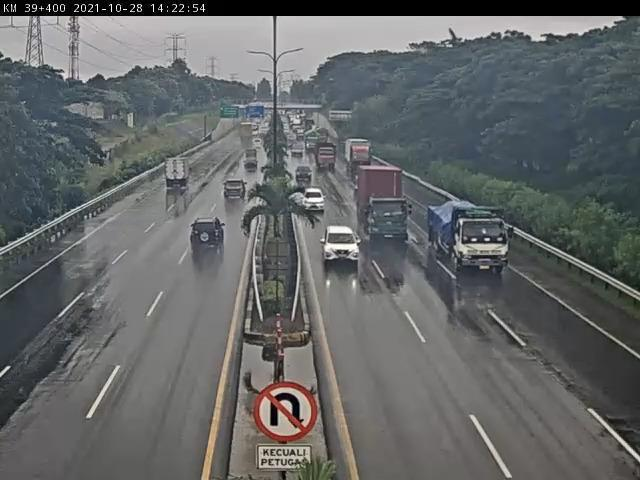truck: (426, 199, 514, 276), (356, 167, 415, 247), (164, 157, 194, 190)
